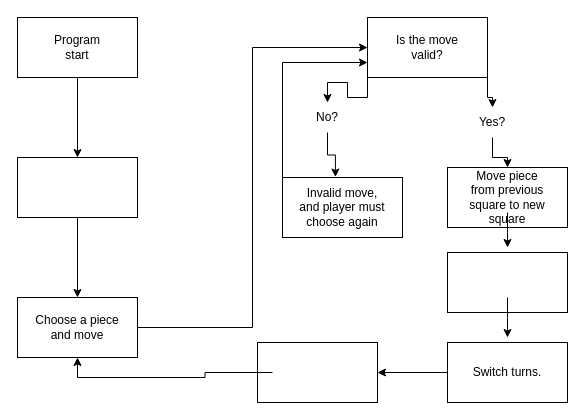
This 585x420 diagram has some shape labels left out. The shapes that lost their labels are listed below. From the top down, each one's centre as x and y in pixels, then its label:
At point (77, 187): "Display starting board and ask for a move".
At point (507, 282): "Capture an enemy piece if applicable".
At point (317, 372): "Repeat this process back and forth until a win or draw.".
